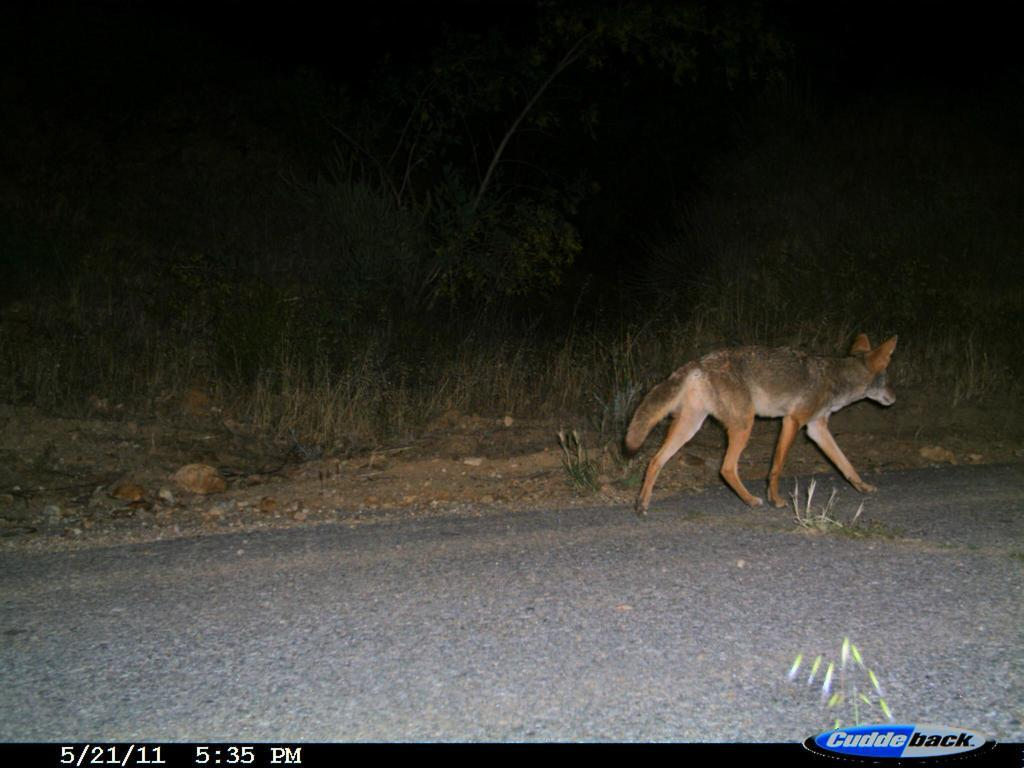coyote: (617, 322, 909, 519)
